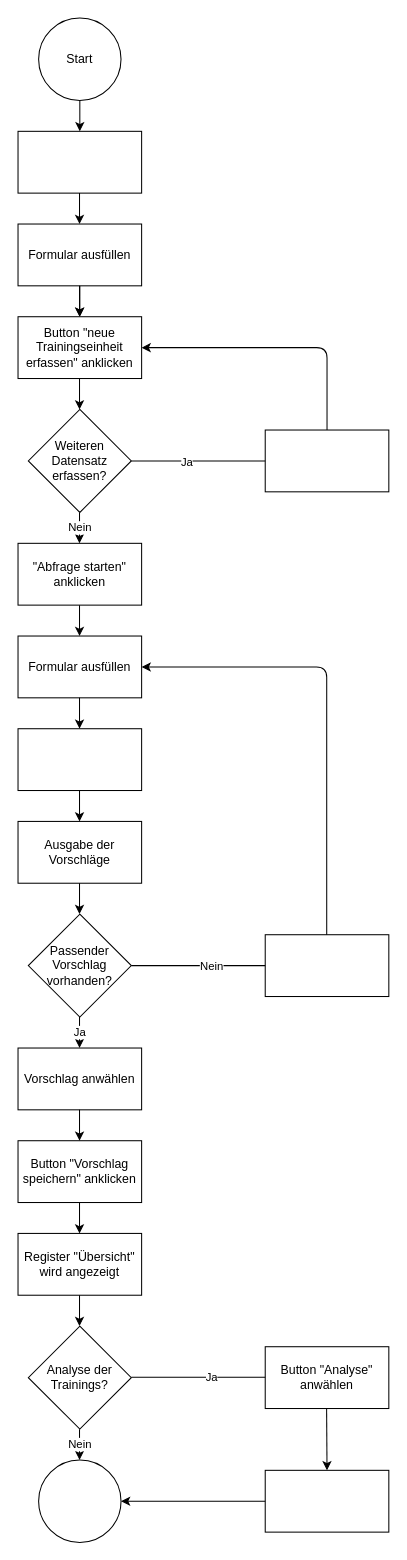
The diagram is 407 pixels wide and 1560 high, and some of its shapes have lost their labels. Each missing label, with the centre of its shape:
"weitere Trainingseinheit erfassen" anklicken: point 326,460
Analyse wird angezeigt: point 326,1500
Button "Vorschläge anzeigen" anklicken: point 79,759
Ende: point 79,1500
Link "erneute Abfrage starten" anklicken: point 326,965
Register Erfassen anklicken: point 79,161
